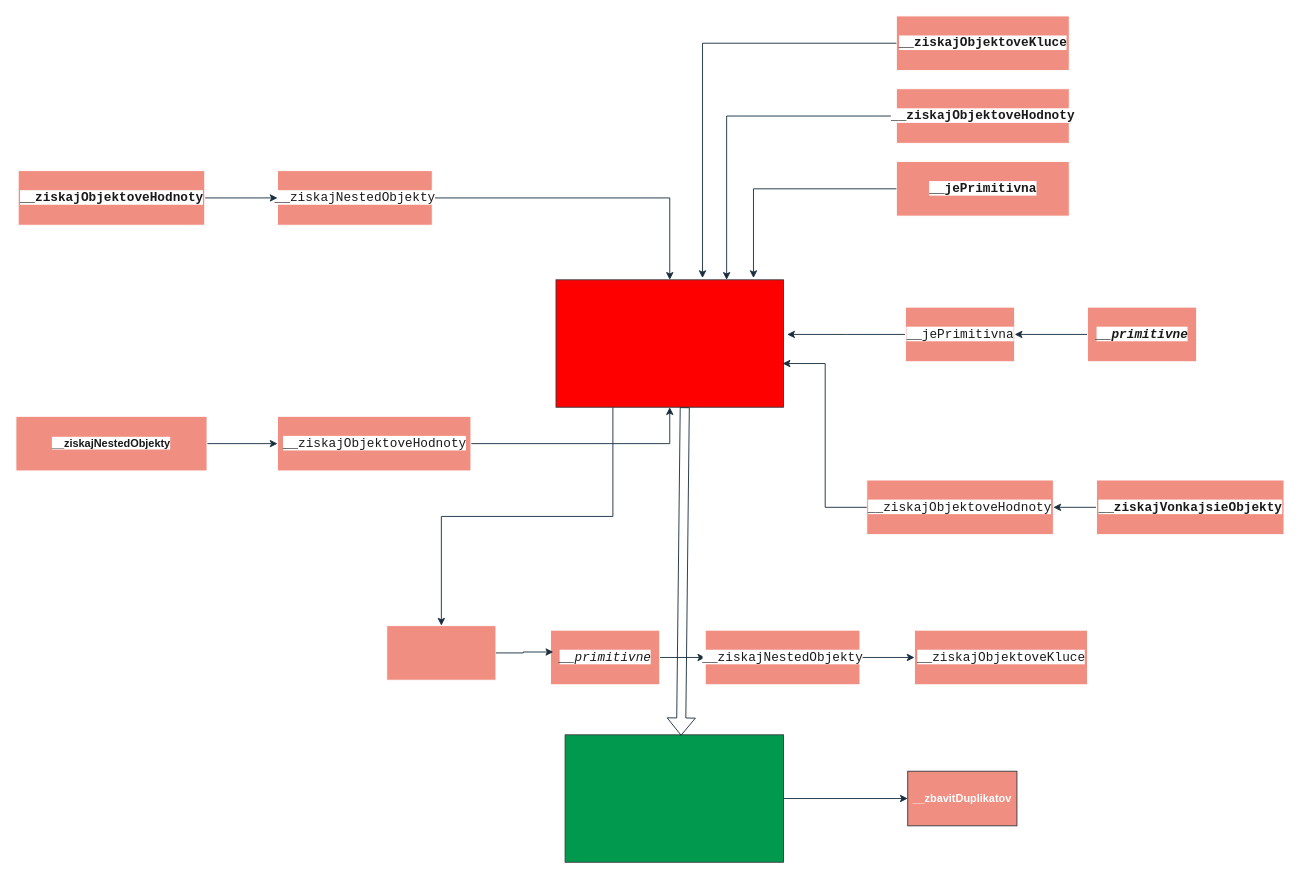
Some shapes in this 1300 by 878 pixel diagram are drawn without their labels. Here are the shapes that lost their labels. From the top down, the box of each, then its label:
(555, 279, 784, 407): ZiskavanieDatZoSluzieb
(386, 625, 496, 680): __ziskajObjekty
(564, 734, 784, 862): Spracovanie dát
